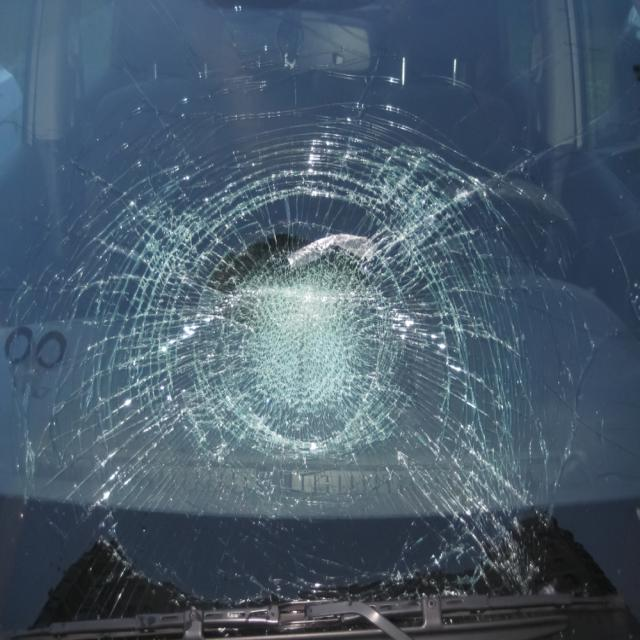glass shatter: (0, 0, 640, 638)
